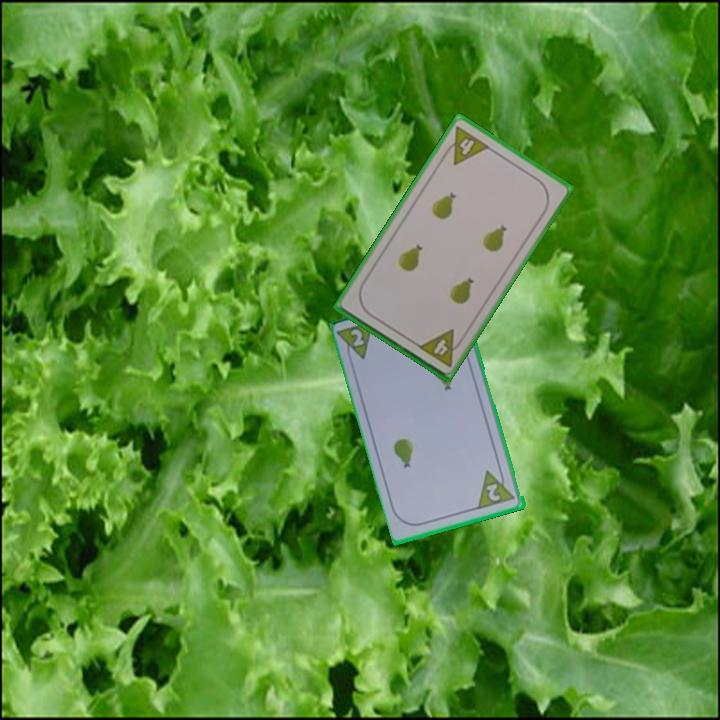2p: (475, 464, 518, 512), (347, 325, 368, 350)
4p: (439, 122, 492, 168), (414, 325, 467, 370)
